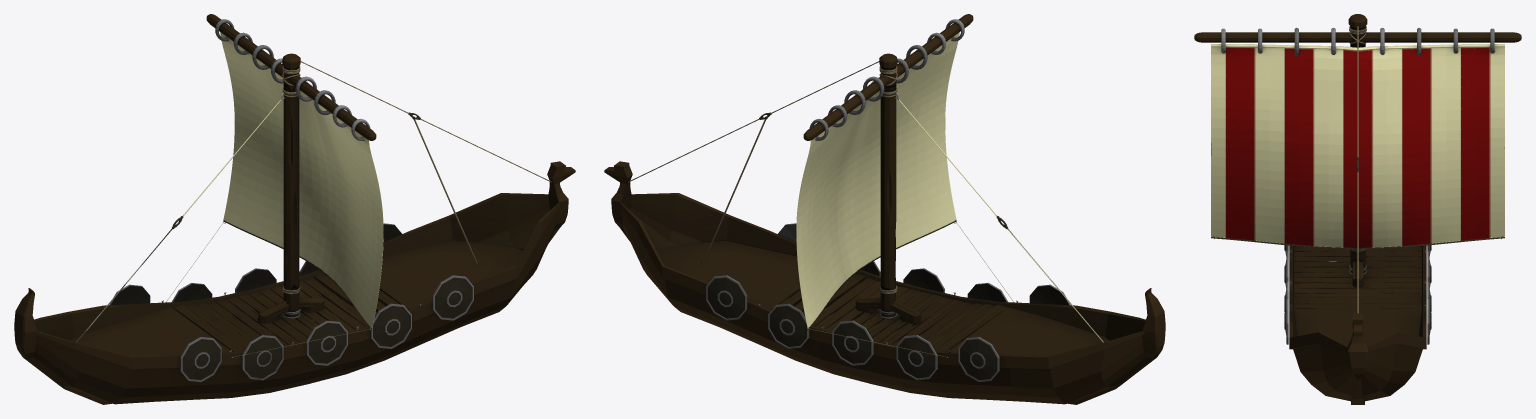
Rendered from large-ship.glb.
3 views of the same model, side by side, from view 1: azimuth 30°, elevation 25°; view 2: azimuth 150°, elevation 25°; view 3: azimuth 270°, elevation 25° (orthographic).
Parts seen in each view (by area): view 1: boat_complete_texturesobjcleanermaterialmergergles; view 2: boat_complete_texturesobjcleanermaterialmergergles; view 3: boat_complete_texturesobjcleanermaterialmergergles.
Part boxes in pixels (left/top/right/bottom): boat_complete_texturesobjcleanermaterialmergergles: left=14, top=14, right=575, bottom=404; boat_complete_texturesobjcleanermaterialmergergles: left=604, top=14, right=1165, bottom=404; boat_complete_texturesobjcleanermaterialmergergles: left=1194, top=14, right=1521, bottom=404.
Bounding box in the file's own units: 51.79 × 28.87 × 26.78.
1 material, 1 textured.
